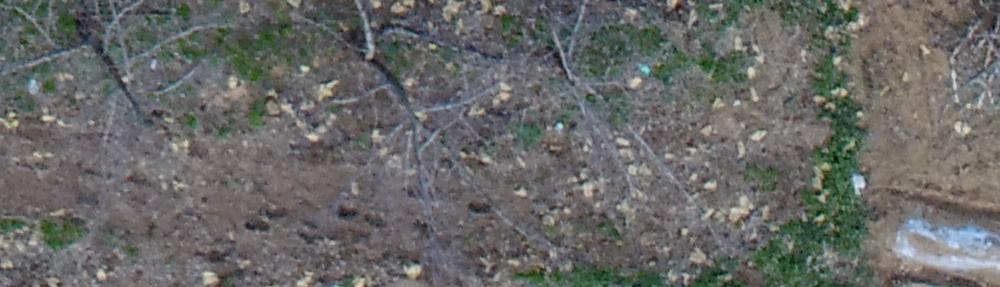apple: (288, 10, 530, 242), (10, 10, 216, 153), (515, 10, 658, 153)
